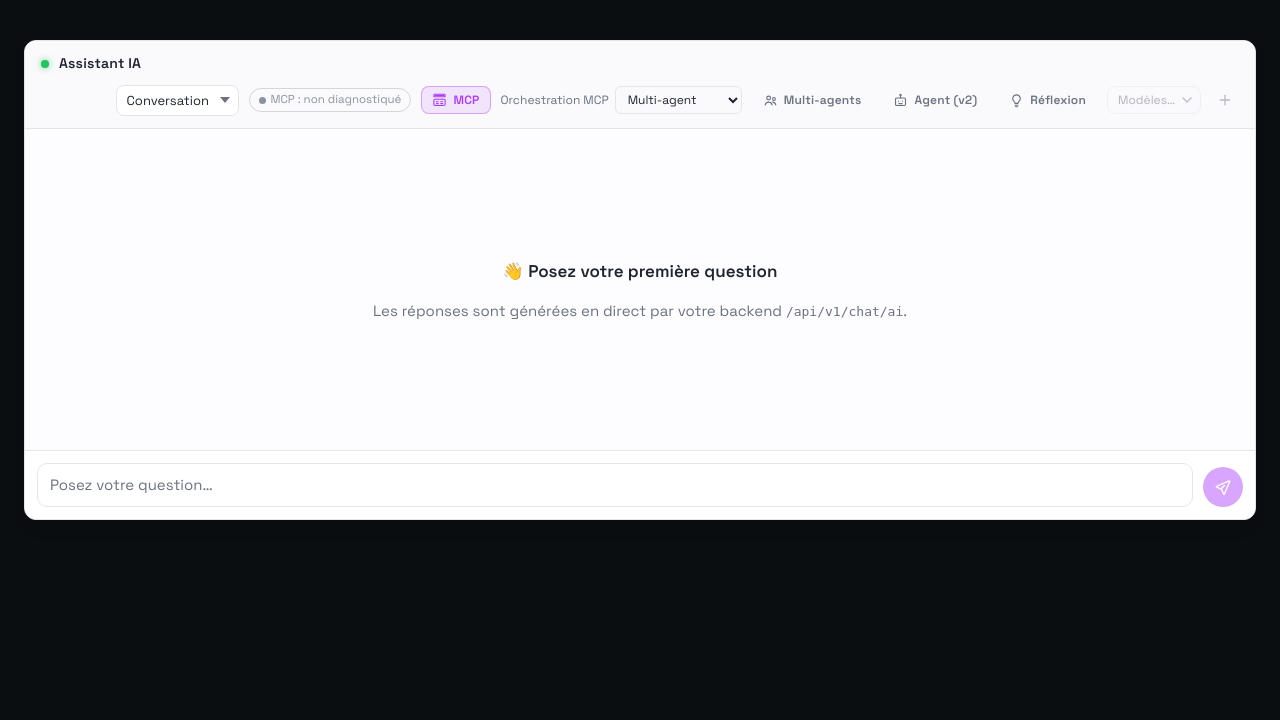
Test: ChatWindow - sélecteur d’orchestration MCP › ChatWindow - réponse finale multi-agents › affiche les résumés workers si le run MCP se termine sans réponse finale (P1)
Type "Info CPU ?" into the text box named "Votre message" at (615, 485), box [37, 463, 1193, 507]
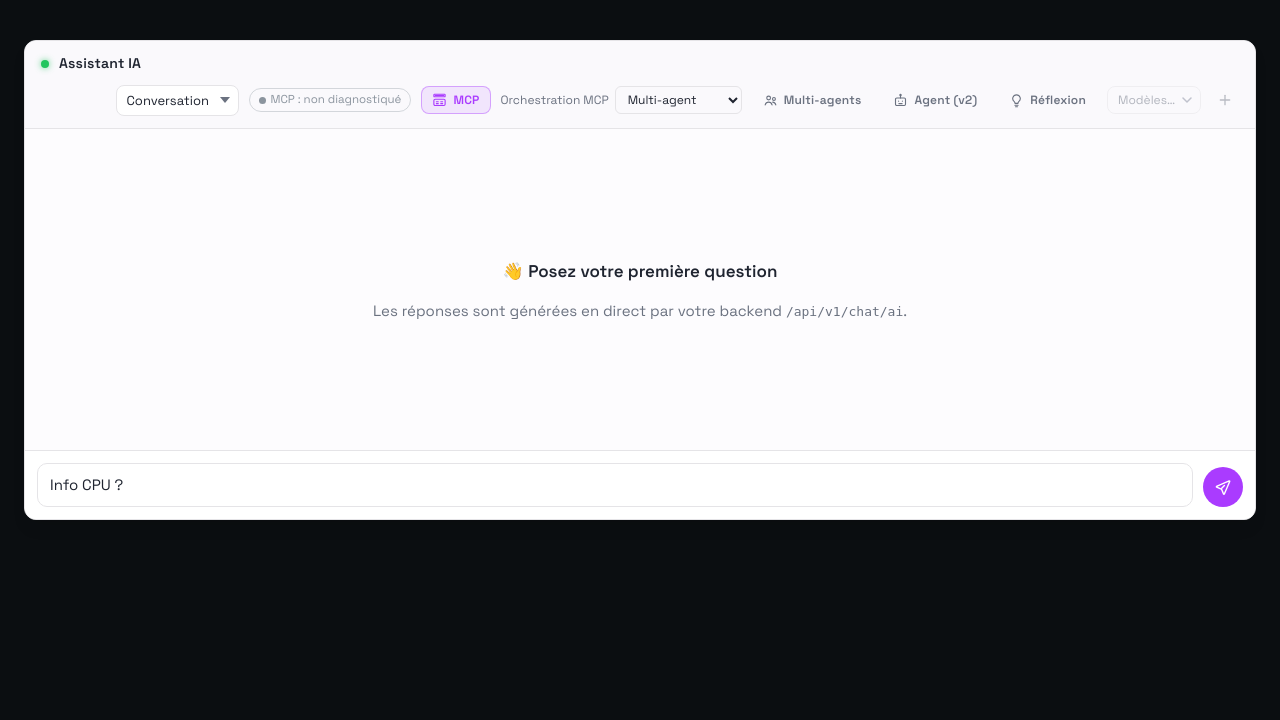
Click the button named "Envoyer" at (1223, 487), box [1203, 467, 1243, 507]
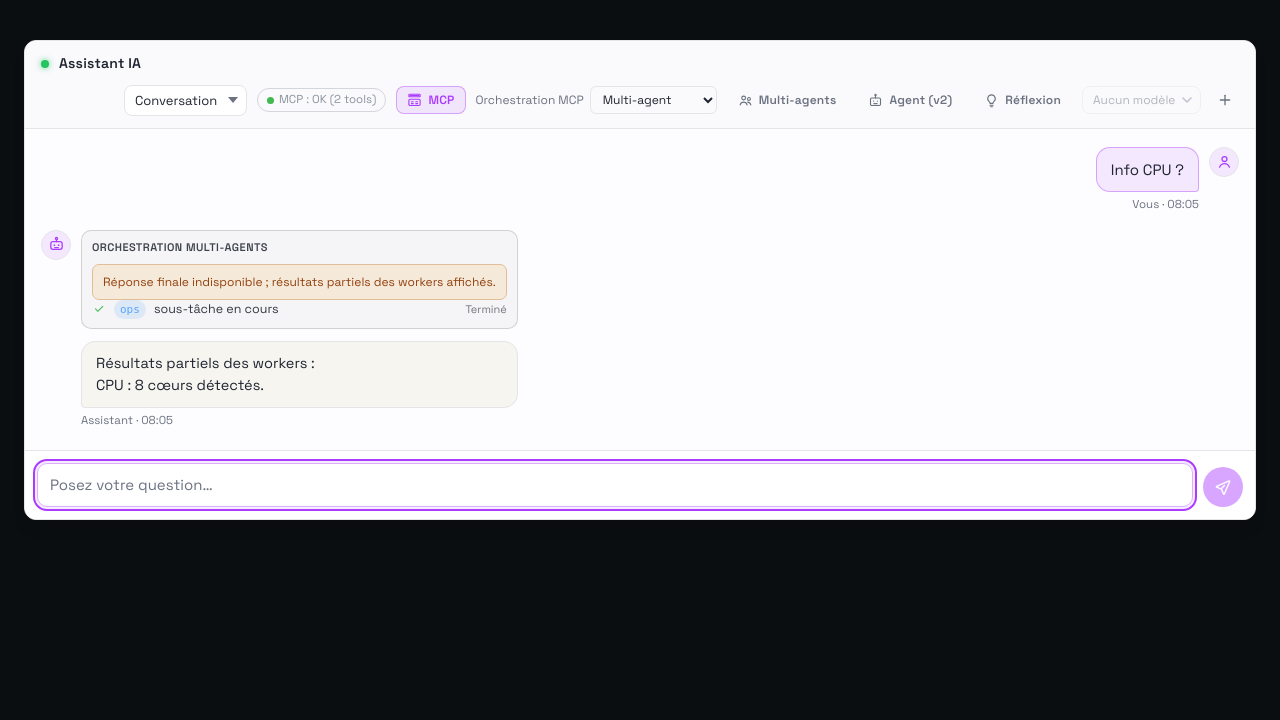
Now the text "Résultats partiels des workers :CPU : 8 cœurs détectés." is shown, box [96, 354, 315, 394]
